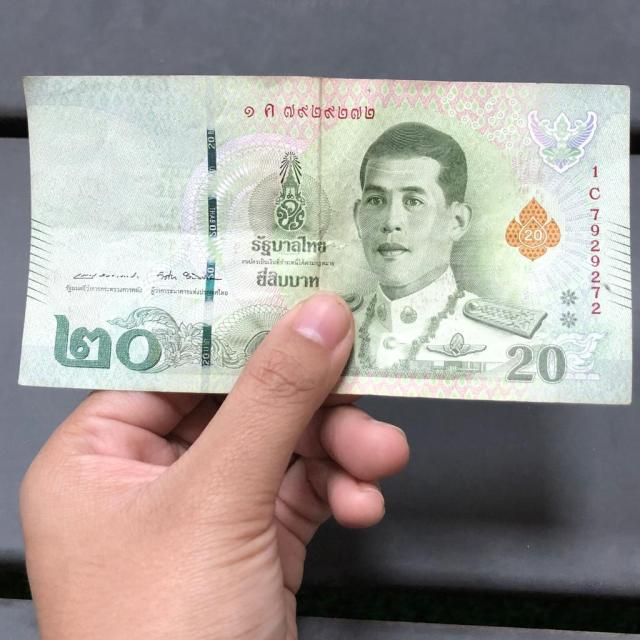THAI20: (18, 76, 636, 410)
